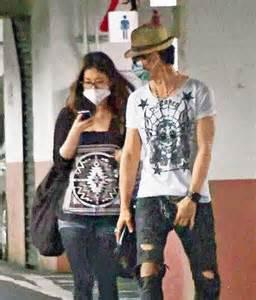OK: (81, 71, 114, 104), (133, 53, 158, 85)
